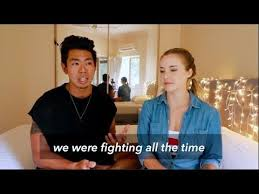asian_male: (57, 35, 99, 88)
